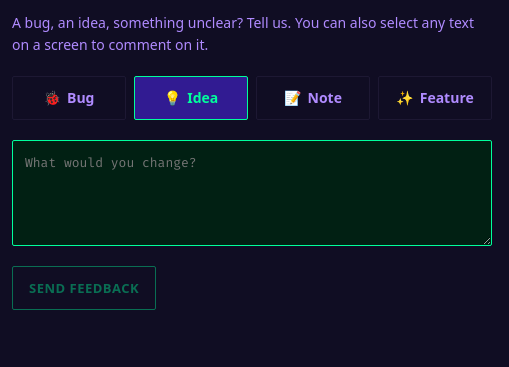
Test: SendFeedback › sends a comment with its type, not tied to any page, and clears the box
This screenshot has width=509, height=367.
Check: the button "Send feedback" is disabled, box [12,266,156,310]
Click the radio button labelled "🐞 Bug" at point(69, 98), box [12,76,126,120]
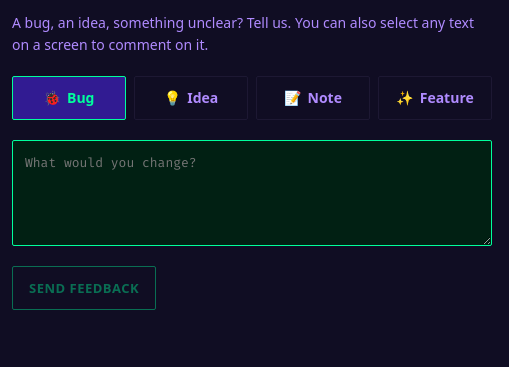
Type "  The chart is slow  " into the text box named "Your comment" at point(252, 193), box [12,140,492,246]
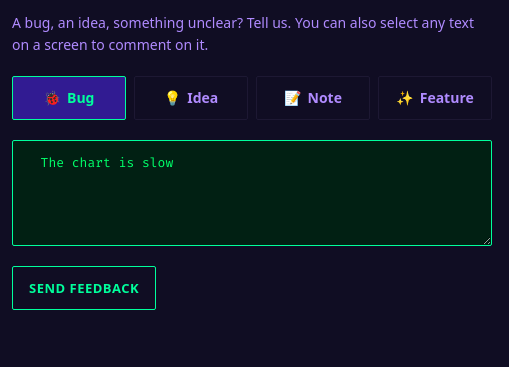
Click the button "Send feedback" at point(84, 288), box [12,266,156,310]
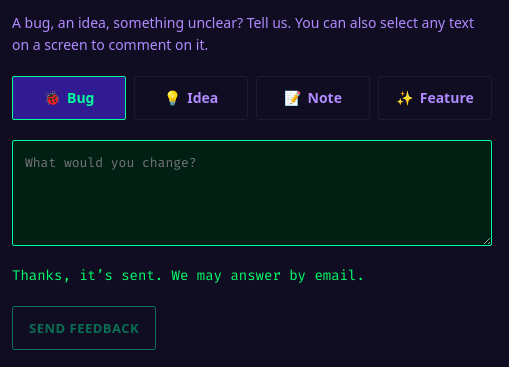
Check: the text "Thanks, it’s sent. We may answer by email." is shown, box [12,266,365,285]
Check: the text box named "Your comment" is empty, box [12,140,492,246]
